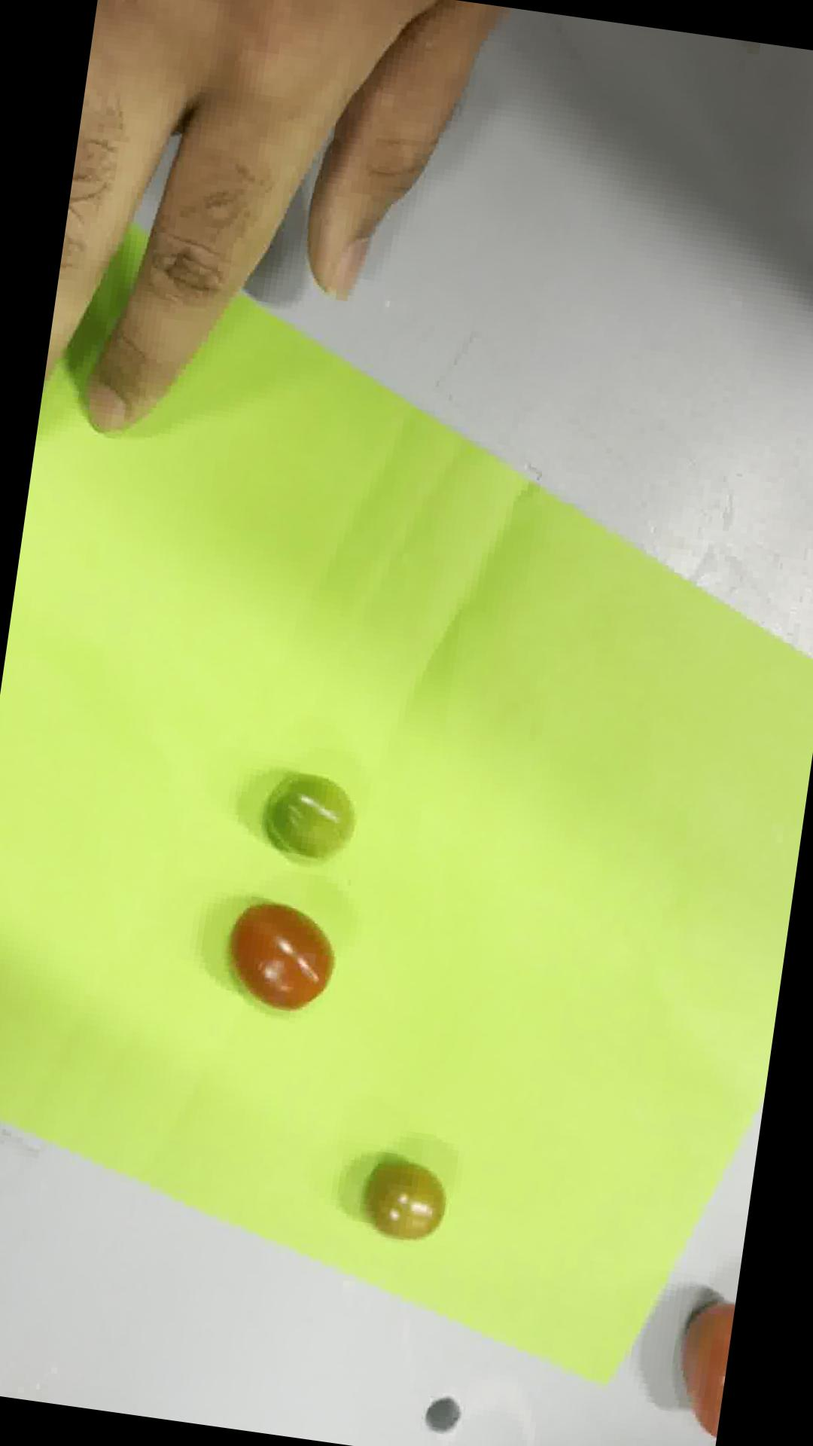green_cherry_tomato: (264, 772, 355, 860)
red_cherry_tomato: (230, 903, 333, 1008)
yellow_cherry_tomato: (365, 1158, 444, 1239)
